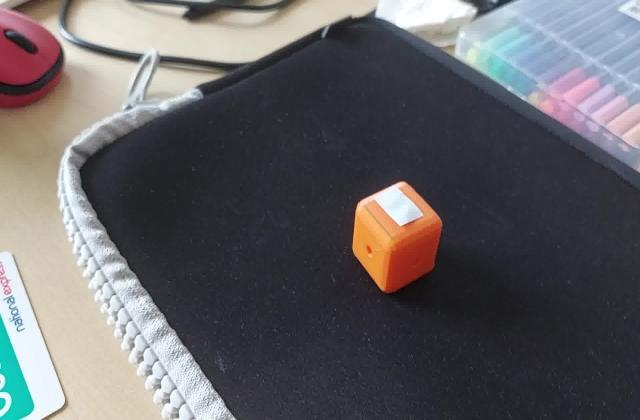cube: (349, 181, 444, 296)
white: (378, 196, 426, 227)
